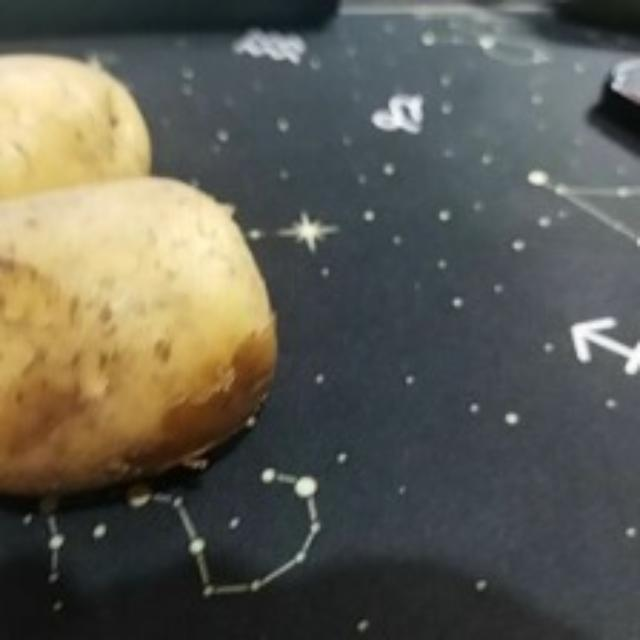Damaged potato: (1, 178, 281, 512)
Potato: (0, 49, 156, 285)
